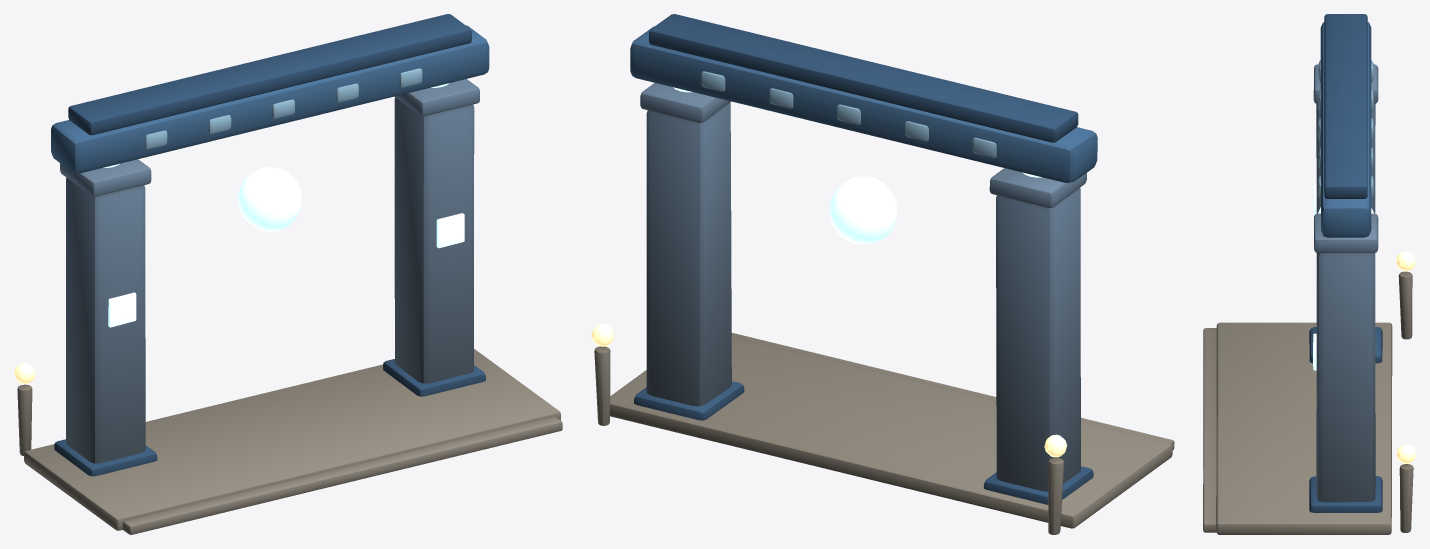
The picture shows the model from 3 angles, left to right: view 1: azimuth 30°, elevation 25°; view 2: azimuth 150°, elevation 25°; view 3: azimuth 270°, elevation 25°; orthographic projection. The views are drawn at different scales.
Parts seen in each view (by area): view 1: gate_e90d852c; view 2: gate_e90d852c; view 3: gate_e90d852c.
Boxes of the visible parts, x1,y1,x2,y2 form: gate_e90d852c: (14, 14, 562, 534); gate_e90d852c: (591, 14, 1174, 534); gate_e90d852c: (1203, 14, 1415, 534).
Size of the model in its own units: 5.72 by 4.44 by 2.55.
